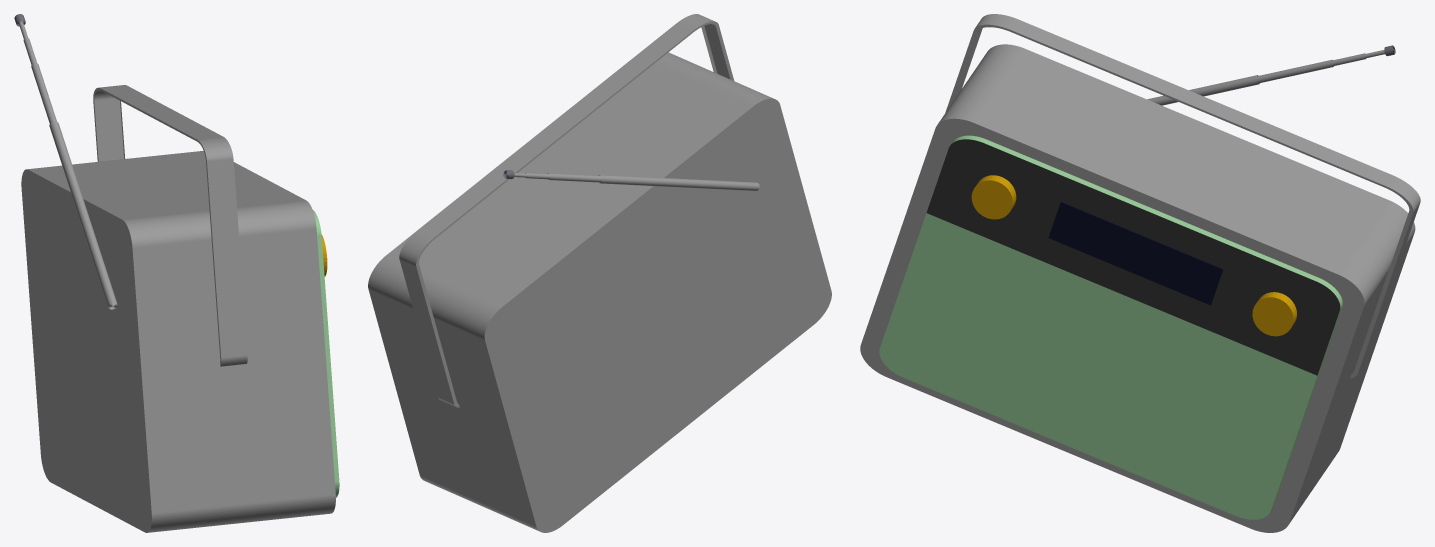
The model's file is radio.glb.
3 views of the same model, side by side, from view 1: azimuth 30°, elevation 25°; view 2: azimuth 150°, elevation 25°; view 3: azimuth 270°, elevation 25° (orthographic). The views are drawn at different scales.
Visible parts, largest first — view 1: Radio; view 2: Radio; view 3: Radio.
Boxes of the visible parts, x1=… form: Radio: x1=14, y1=14, x2=339, y2=532; Radio: x1=368, y1=14, x2=831, y2=532; Radio: x1=860, y1=14, x2=1420, y2=532.
Size of the model in its own units: 2.82 by 4.23 by 4.88.
